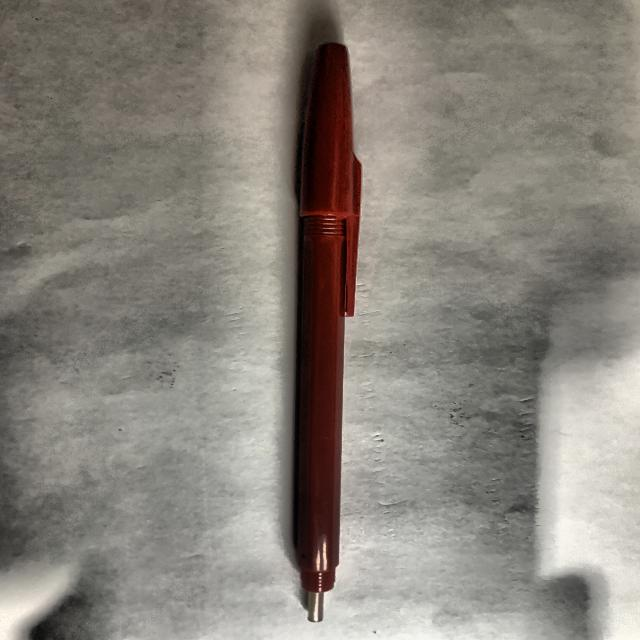Pulpen: (281, 20, 372, 631)
